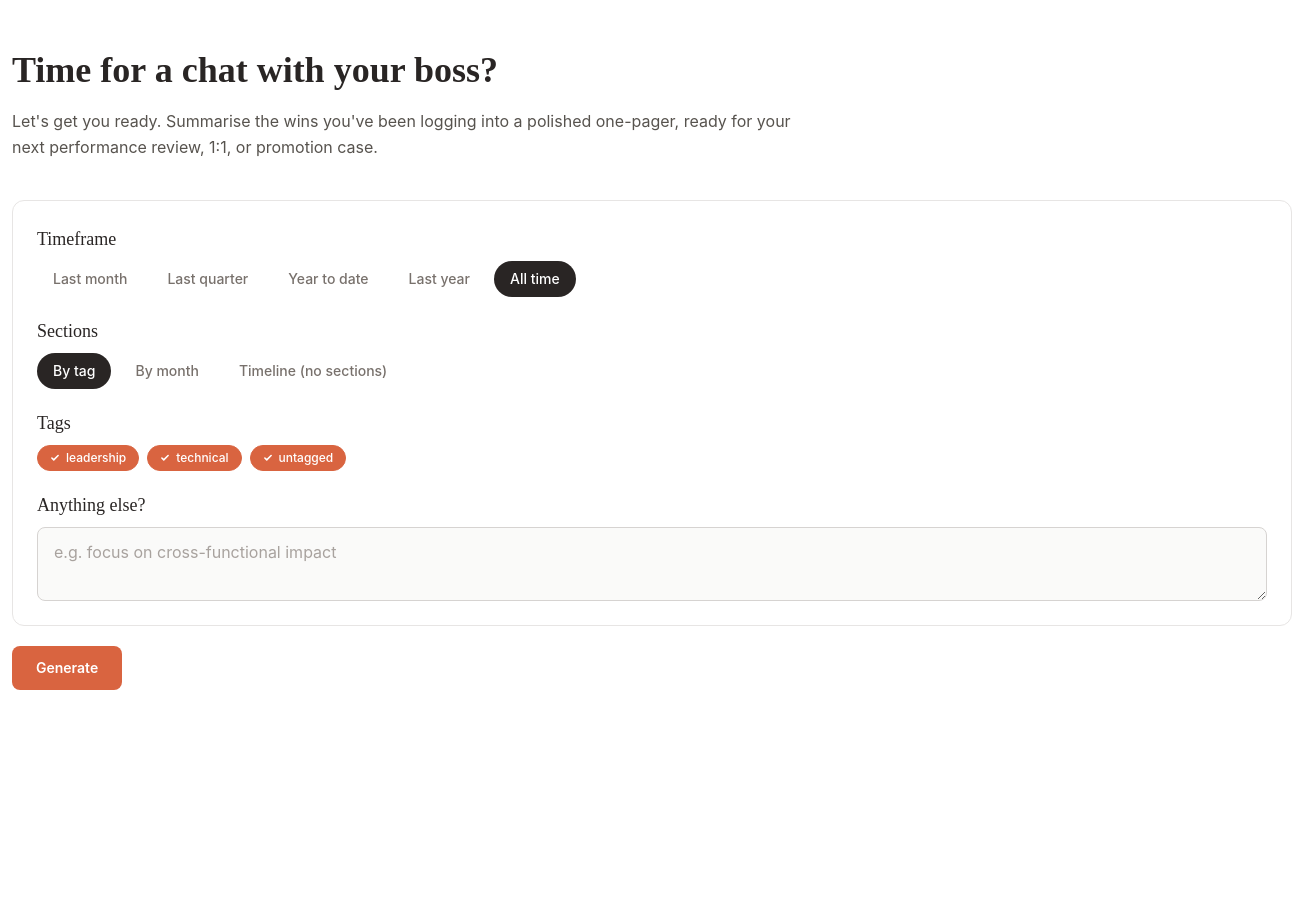
Test: BragDoc — generate payload › sends groupBy='tag' by default
Step 1. Click the button "Generate" → (67, 668), box [12,646,122,690]
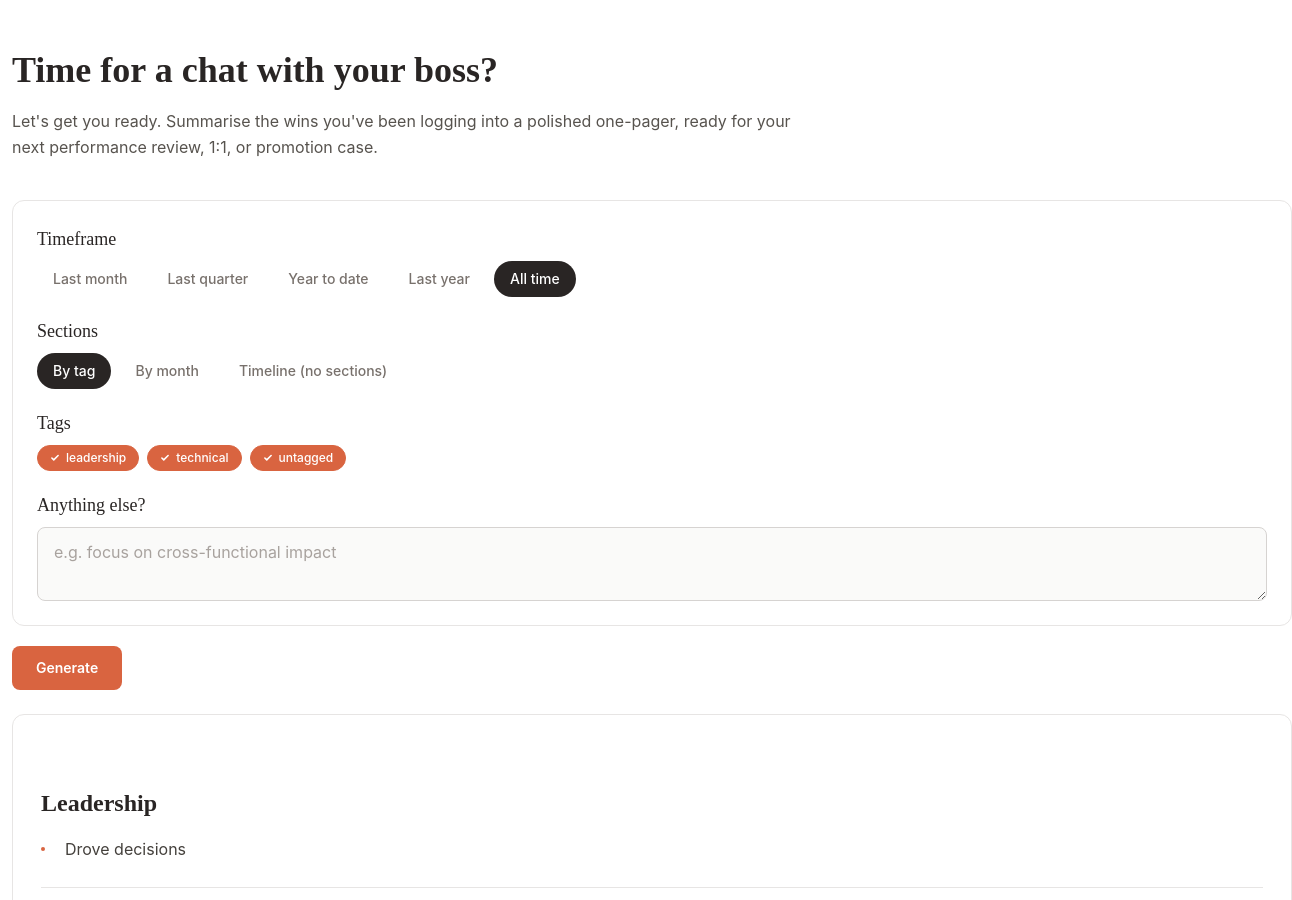
Now the list item "Drove decisions" is shown, box [65,839,186,859]
